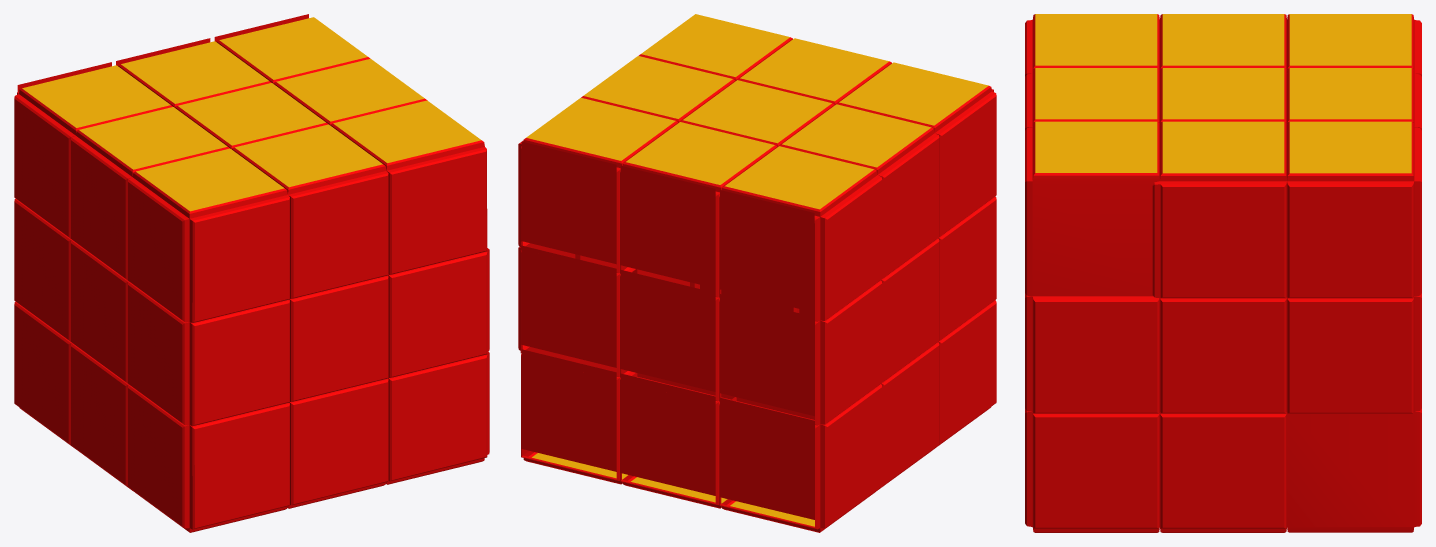
File: rubix-cube.obj
3 views of the same model, side by side, from view 1: azimuth 30°, elevation 25°; view 2: azimuth 150°, elevation 25°; view 3: azimuth 270°, elevation 25° (orthographic). The views are drawn at different scales.
Visible parts, largest first — view 1: Box_Detached, Box_Detached.003, Box_Detached_Detached.001, Box_Detached.001, Box_Detached.004; view 2: Box_Detached.004, Box_Detached.003, Box_Detached_Detached.001, Box_Detached.001, Box_Detached_Detached, Box_Detached.002; view 3: Box_Detached.002, Box_Detached_Detached.001, Box_Detached.001.
Part boxes in pixels (x1,y1,x2,y2): Box_Detached: [194, 152, 486, 528]; Box_Detached.003: [14, 99, 182, 525]; Box_Detached_Detached.001: [22, 17, 481, 211]; Box_Detached.001: [14, 40, 489, 532]; Box_Detached.004: [17, 14, 308, 91]; Box_Detached.004: [521, 141, 814, 519]; Box_Detached.003: [827, 96, 996, 526]; Box_Detached_Detached.001: [526, 14, 988, 209]; Box_Detached.001: [518, 37, 996, 532]; Box_Detached_Detached: [532, 453, 814, 526]; Box_Detached.002: [523, 243, 687, 455]; Box_Detached.002: [1032, 181, 1414, 527]; Box_Detached_Detached.001: [1035, 14, 1411, 173]; Box_Detached.001: [1025, 14, 1421, 532].
Size of the model in its own units: 1.04 by 1.04 by 1.04.
